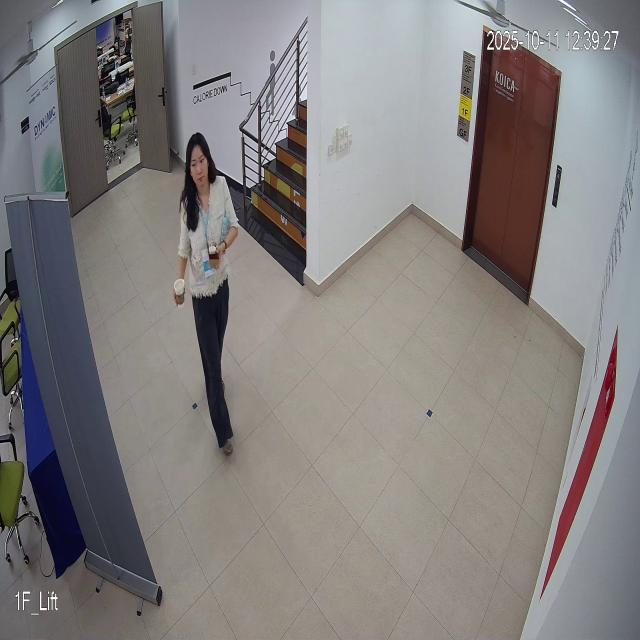face: (182, 122, 218, 198)
